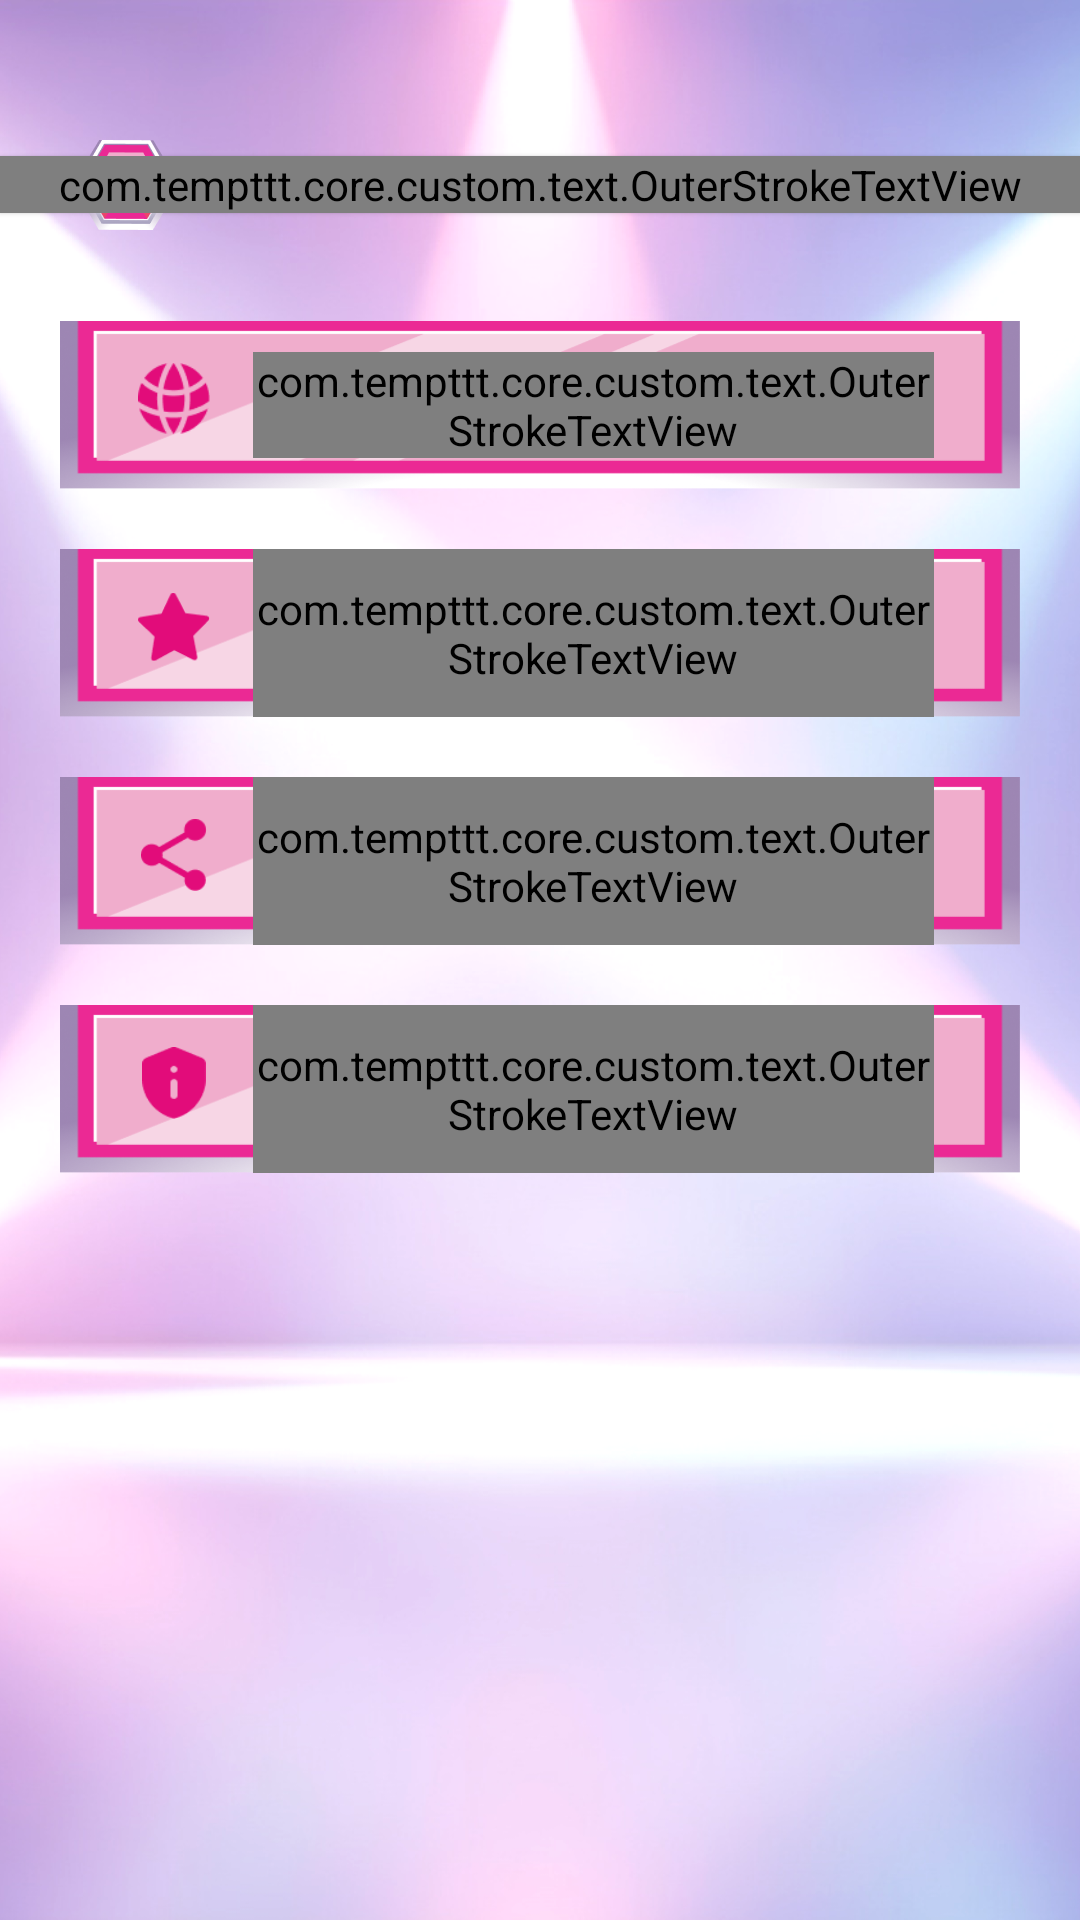

Icon bounding boxes for this 1080×1920 phone screenshot, format bbox(x1, y1, x2, y2):
lang set: bbox(138, 363, 210, 434)
policy set: bbox(142, 1047, 210, 1119)
rate set: bbox(138, 593, 210, 663)
share set: bbox(141, 819, 210, 891)
